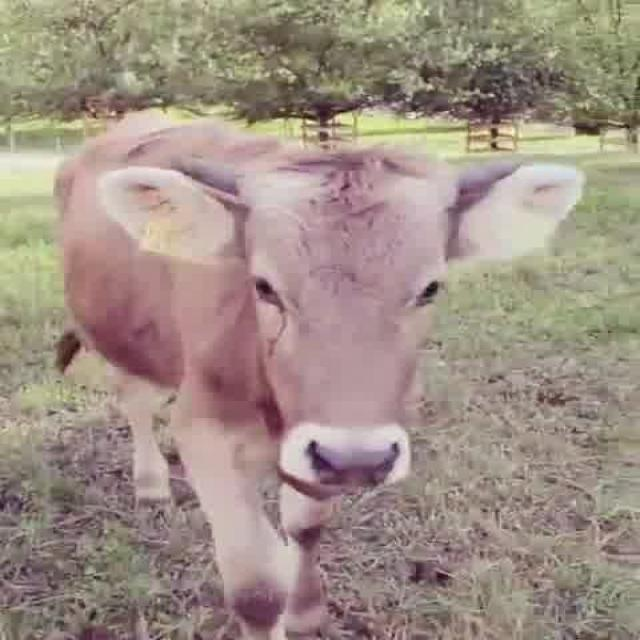cowFace: (92, 138, 609, 507)
